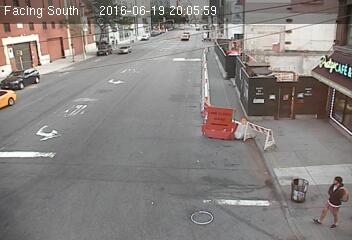neg: (62, 60, 91, 99), (204, 155, 231, 191), (191, 105, 215, 138), (88, 146, 112, 178), (122, 158, 146, 190), (296, 77, 319, 108), (187, 43, 209, 73), (233, 91, 254, 119), (94, 71, 115, 98), (287, 171, 307, 198), (47, 163, 67, 190), (185, 201, 205, 227), (139, 68, 158, 93), (253, 39, 271, 64), (56, 122, 74, 146), (151, 110, 169, 134), (250, 154, 267, 176)
pos: (310, 170, 350, 223)
